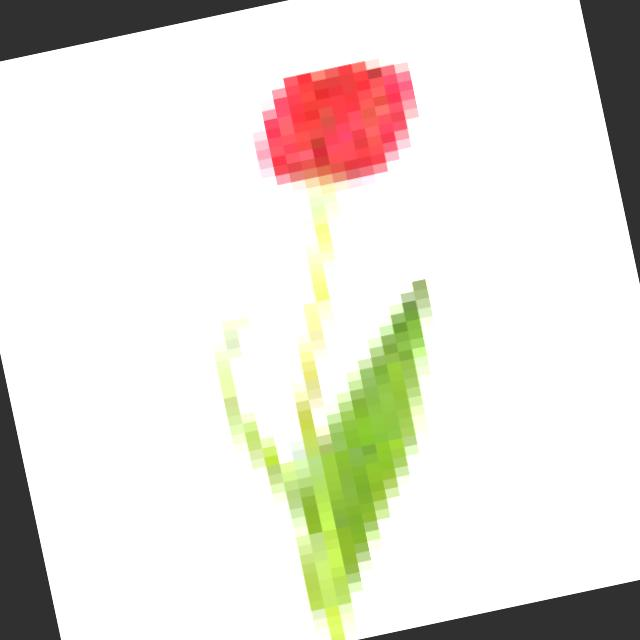tulip: (151, 3, 490, 264)
